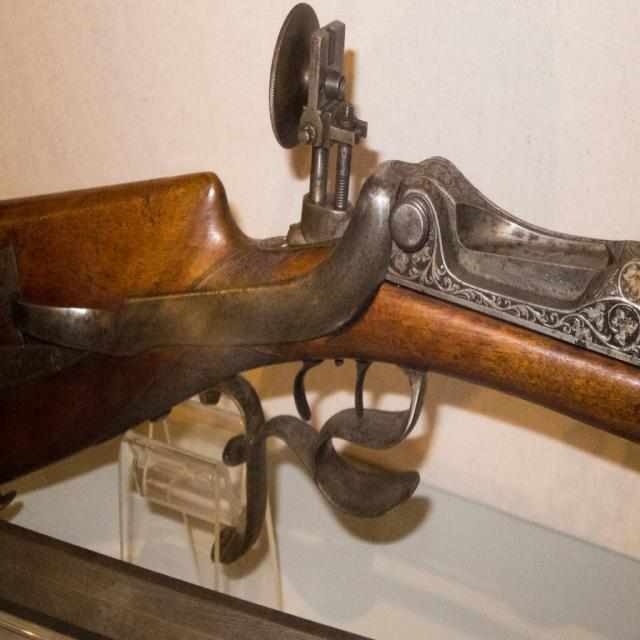weapon: (16, 3, 640, 566)
